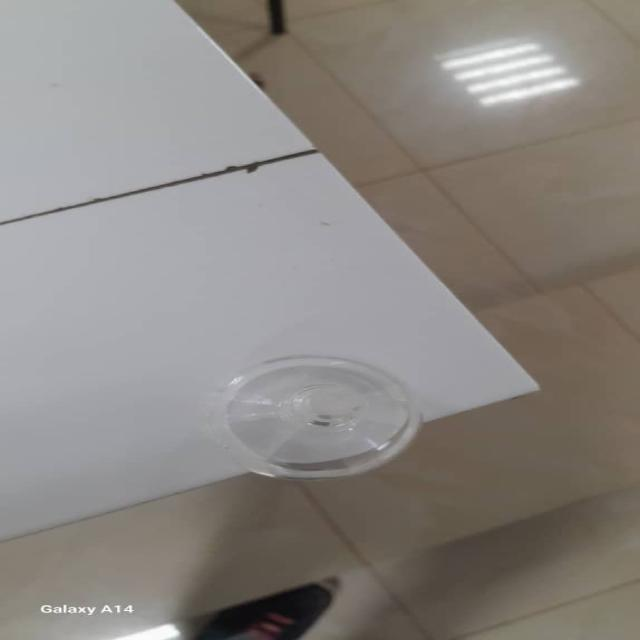Density Bottles for Solids: (210, 352, 423, 488)
